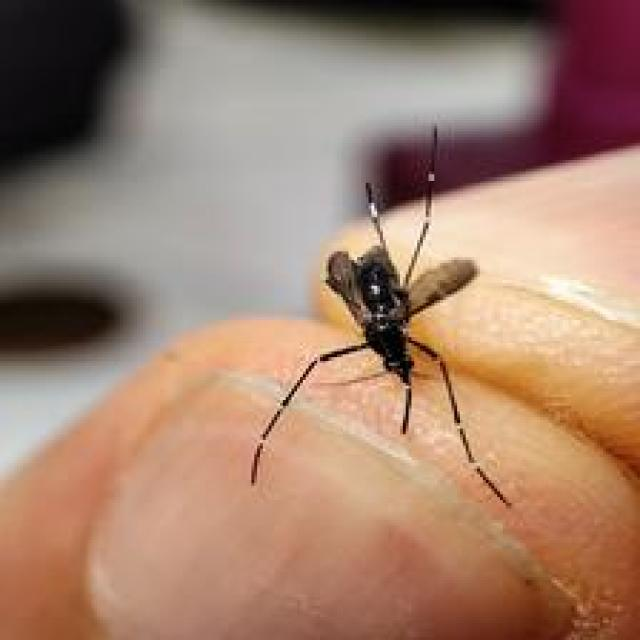Aedes albopictus: (247, 120, 516, 509)
